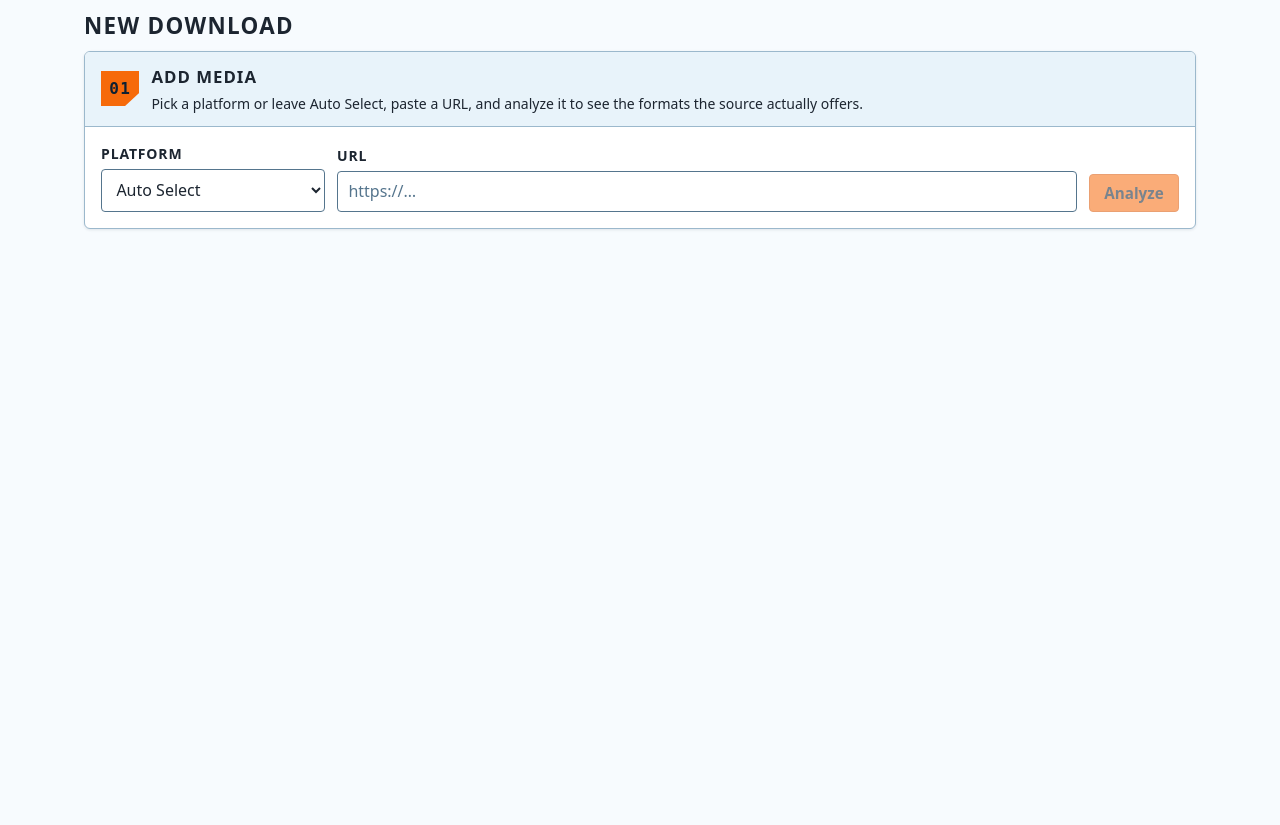
it: collection progress and parent controls › uses committed parent progress, real counters and raw child order, not child transfer completion
The width and height of the screenshot is (1280, 825).
Type "https://example.com/album" into the field labelled "URL" at x=707, y=191, box x1=337 y1=170 x2=1077 y2=212
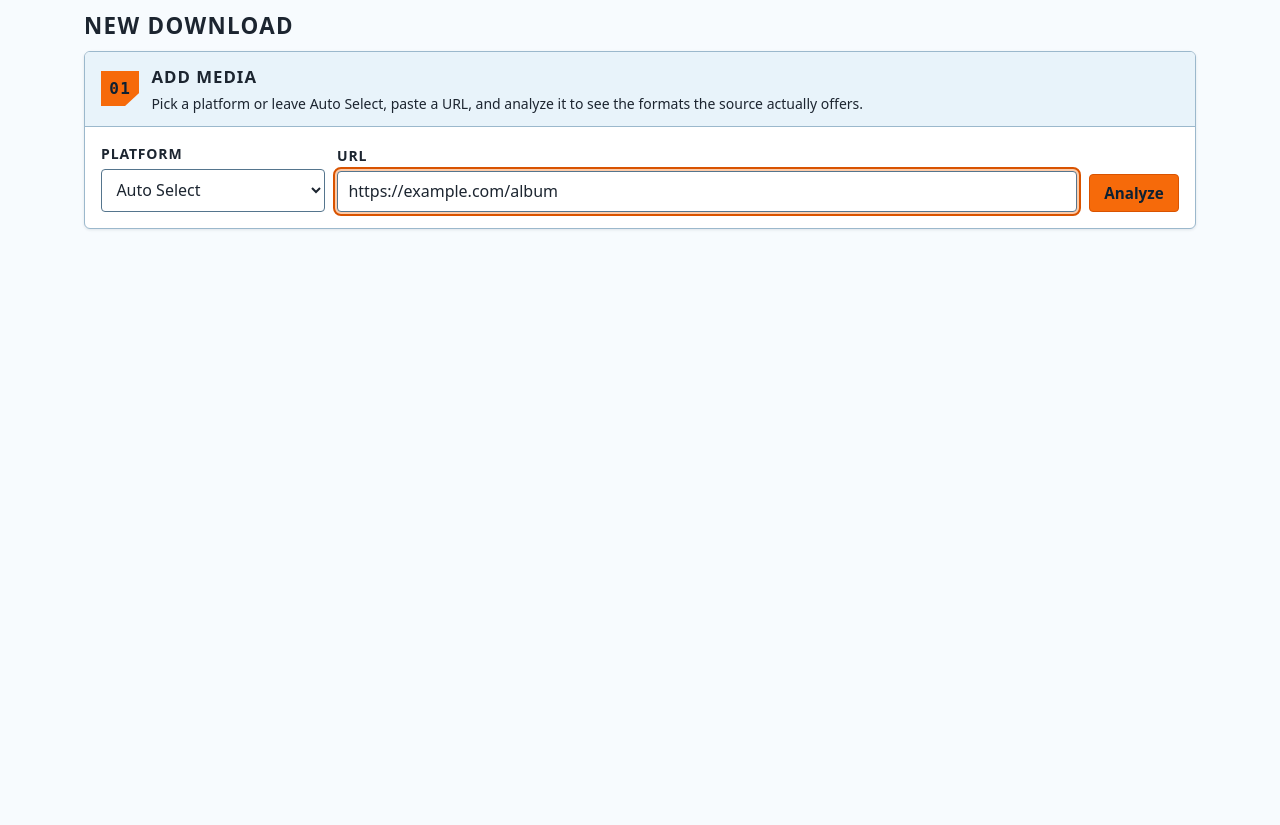
Click the button "Analyze" at x=1134, y=193, box x1=1089 y1=174 x2=1179 y2=212
(page scrolled)
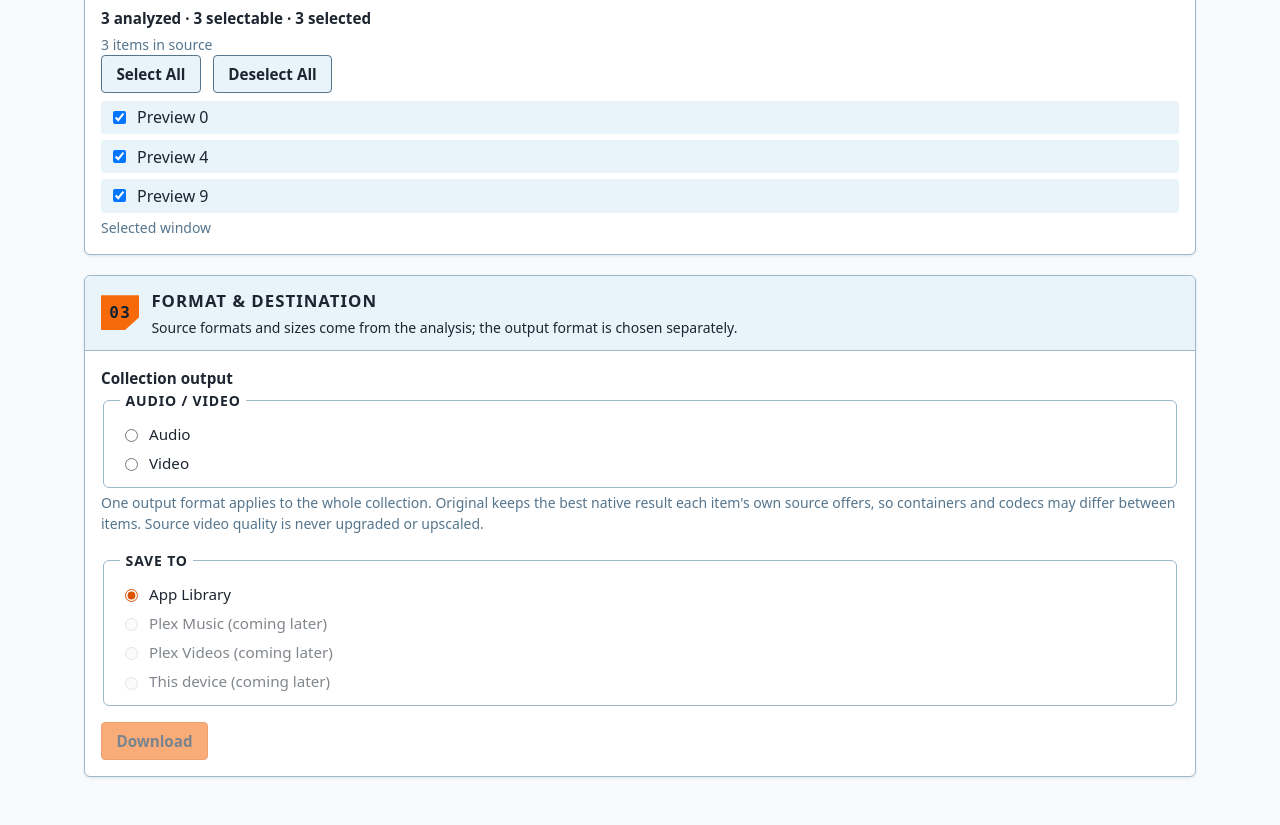
Now the text "Preview 0" is shown, box x1=137 y1=106 x2=208 y2=130
Click the radio button labelled "Audio" at x=132, y=436, box x1=125 y1=429 x2=138 y2=442
(page scrolled)
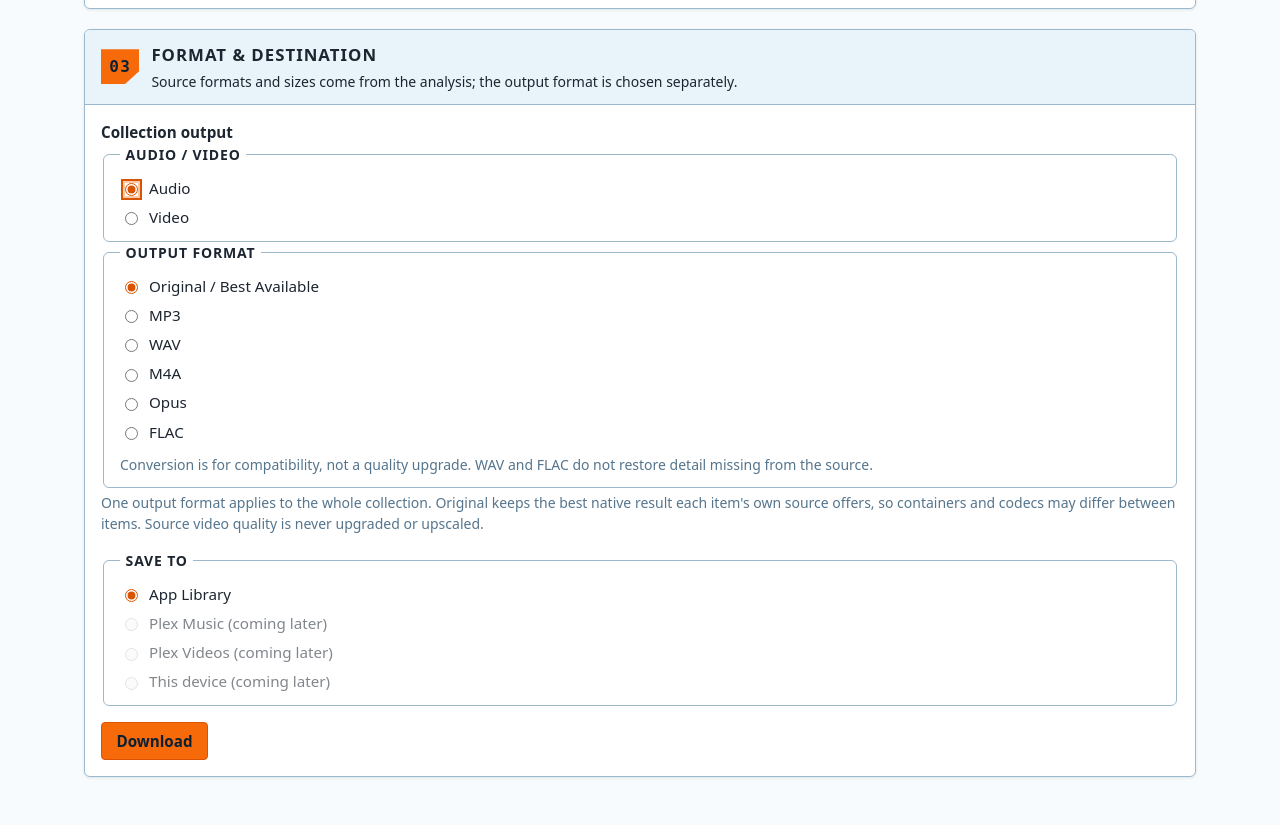
Click the button "Download" at x=154, y=741, box x1=101 y1=722 x2=208 y2=760
(page scrolled)
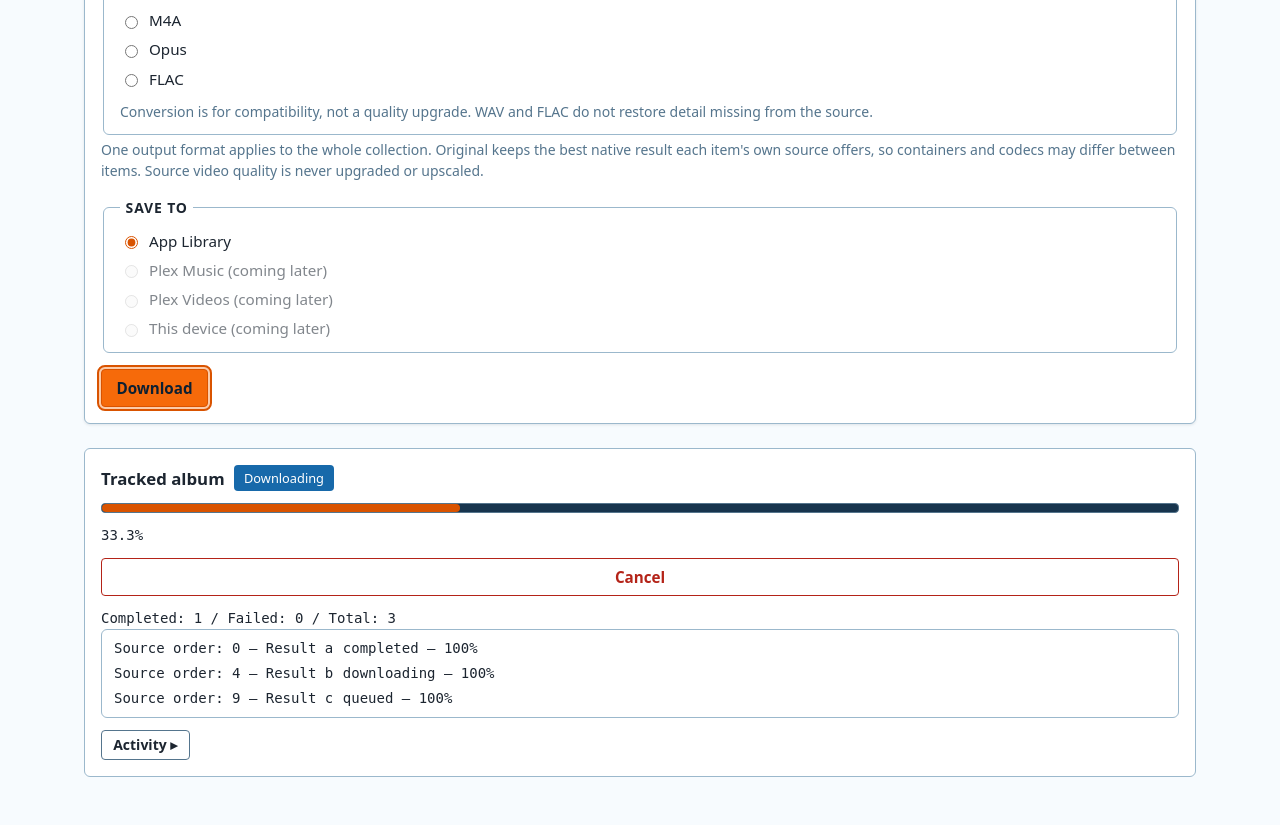
Now the heading "Tracked album" is shown, box x1=101 y1=466 x2=225 y2=491
Now the text "33.3%" is shown, box x1=101 y1=525 x2=143 y2=546
Now the text "Completed: 1 / Failed: 0 / Total: 3" is shown, box x1=101 y1=610 x2=396 y2=626
